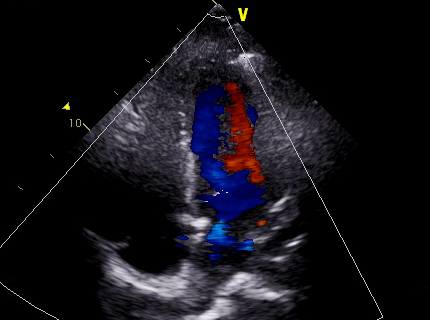MR: (198, 174, 274, 251)
